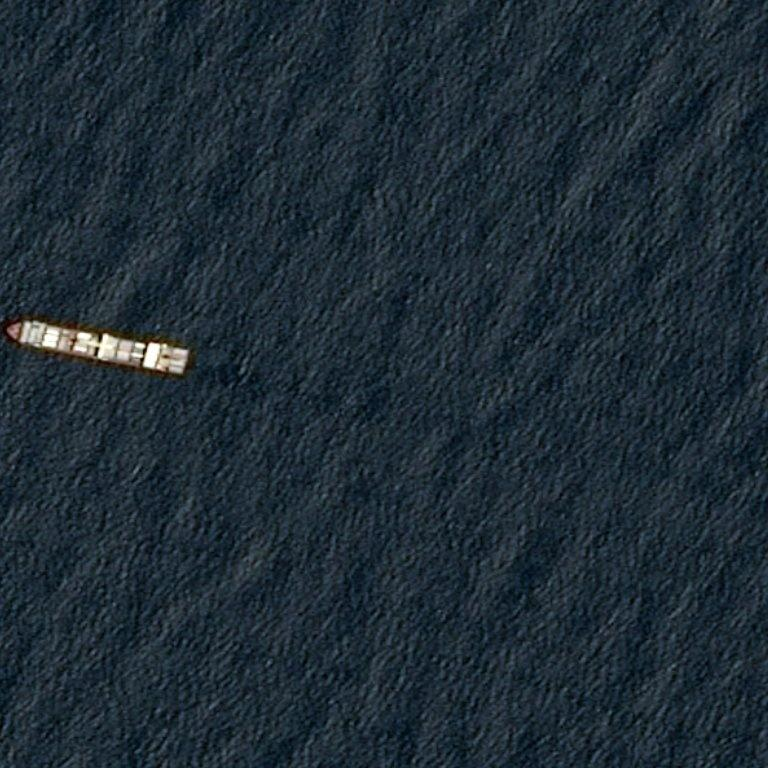ship: (0, 313, 119, 379), (22, 370, 33, 378), (182, 346, 194, 353), (5, 326, 15, 332)
